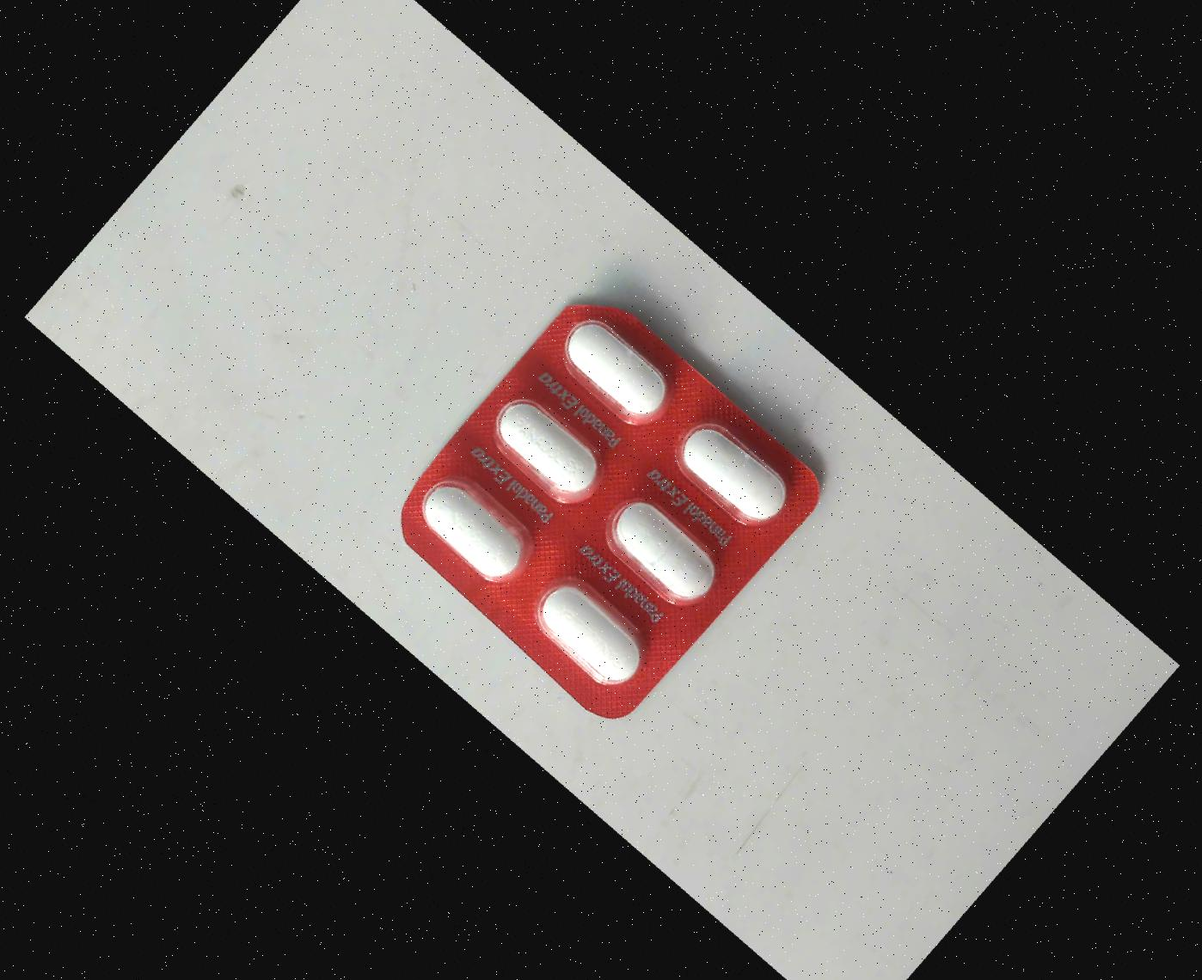Full: (400, 452, 551, 598), (586, 474, 737, 620), (534, 294, 685, 440), (515, 558, 666, 703), (474, 371, 625, 516), (655, 398, 805, 543)
